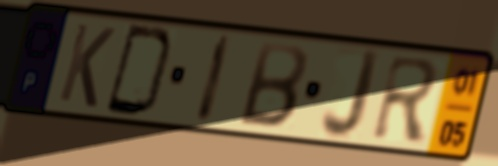B: (234, 38, 310, 132)
D: (102, 21, 178, 120)
I: (192, 31, 236, 128)
J: (318, 46, 384, 143)
K: (55, 20, 118, 112)
R: (368, 53, 444, 145)
